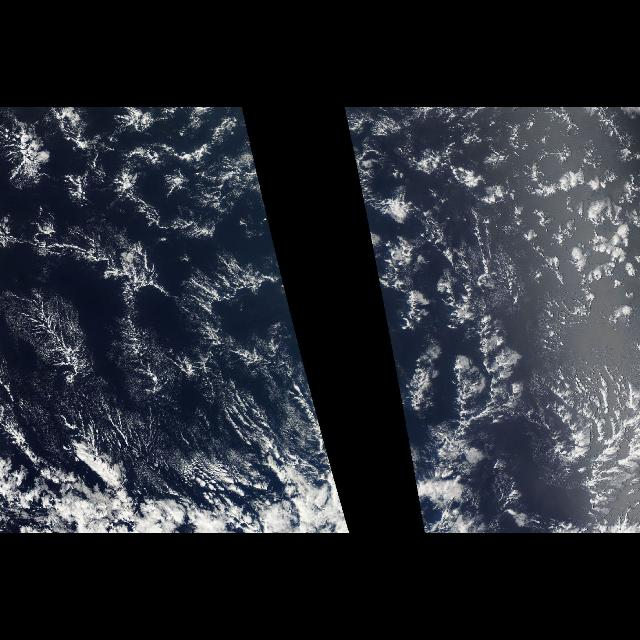Fish: (1, 118, 312, 388)
Flower: (380, 116, 640, 344)
